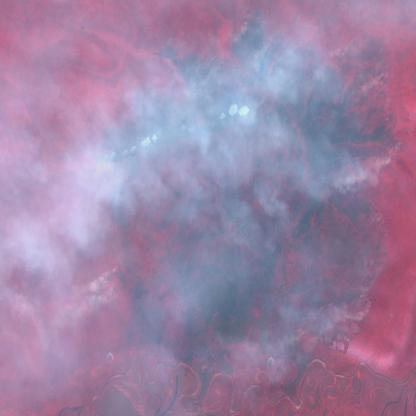fire: (168, 0, 408, 355), (92, 162, 137, 302)
